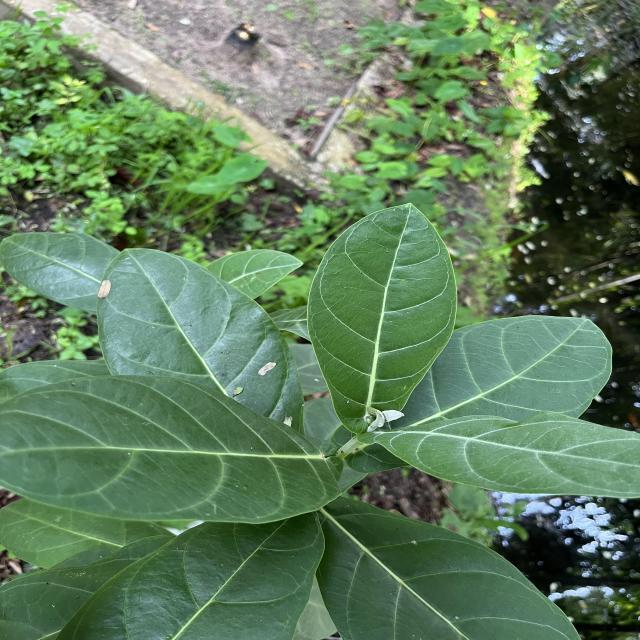Calotropis gigantea: (0, 374, 342, 525), (96, 242, 306, 426), (305, 201, 463, 435), (316, 503, 584, 640), (52, 521, 324, 640), (365, 411, 640, 502), (407, 312, 618, 418), (0, 230, 118, 312)
